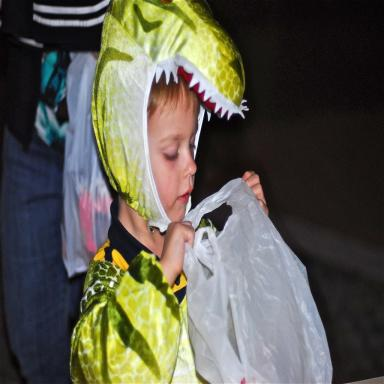plasticbag: (178, 176, 334, 383)
